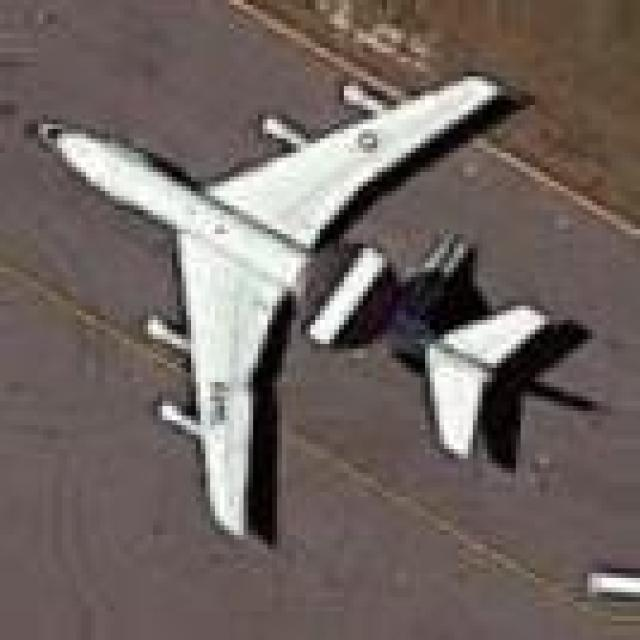E-3_TopDown: (29, 62, 588, 545)
